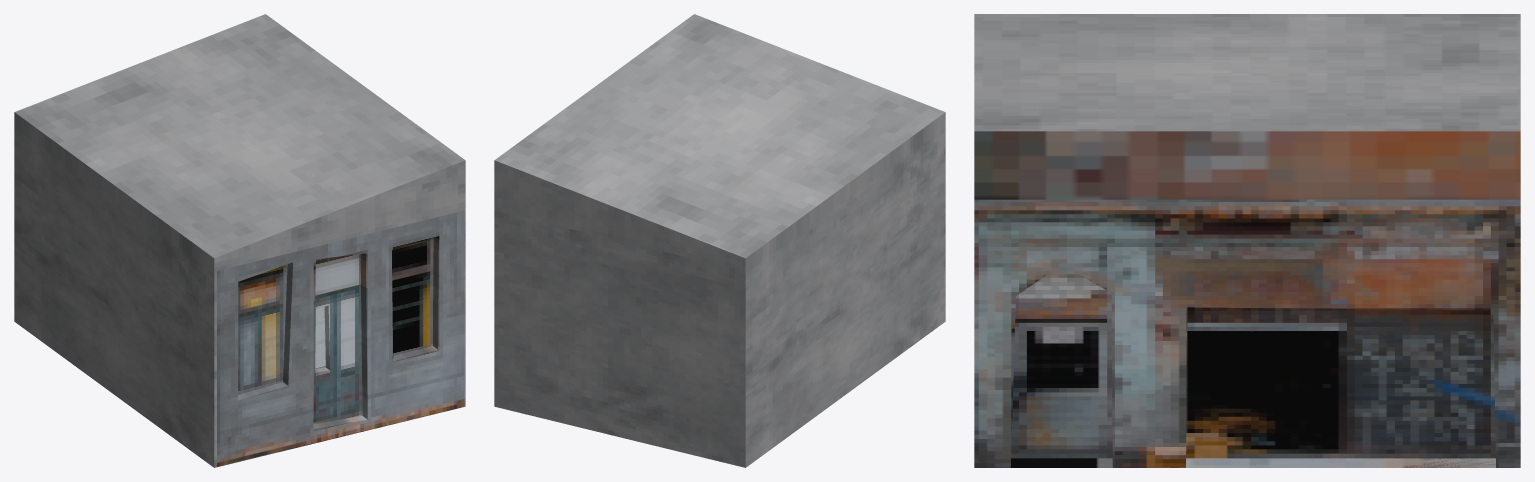
File: House7.fbx
3 views of the same model, side by side, from view 1: azimuth 30°, elevation 25°; view 2: azimuth 150°, elevation 25°; view 3: azimuth 270°, elevation 25° (orthographic). The views are drawn at different scales.
Parts seen in each view (by area): view 1: Cube; view 2: Cube; view 3: Cube.
Boxes of the visible parts, box(x1,y1,x2,y2) form: Cube: box(14, 14, 465, 467); Cube: box(494, 14, 945, 467); Cube: box(974, 14, 1520, 467).
Size of the model in its own units: 825 by 773 by 1137.
Materials: 1 (1 with a texture image).
